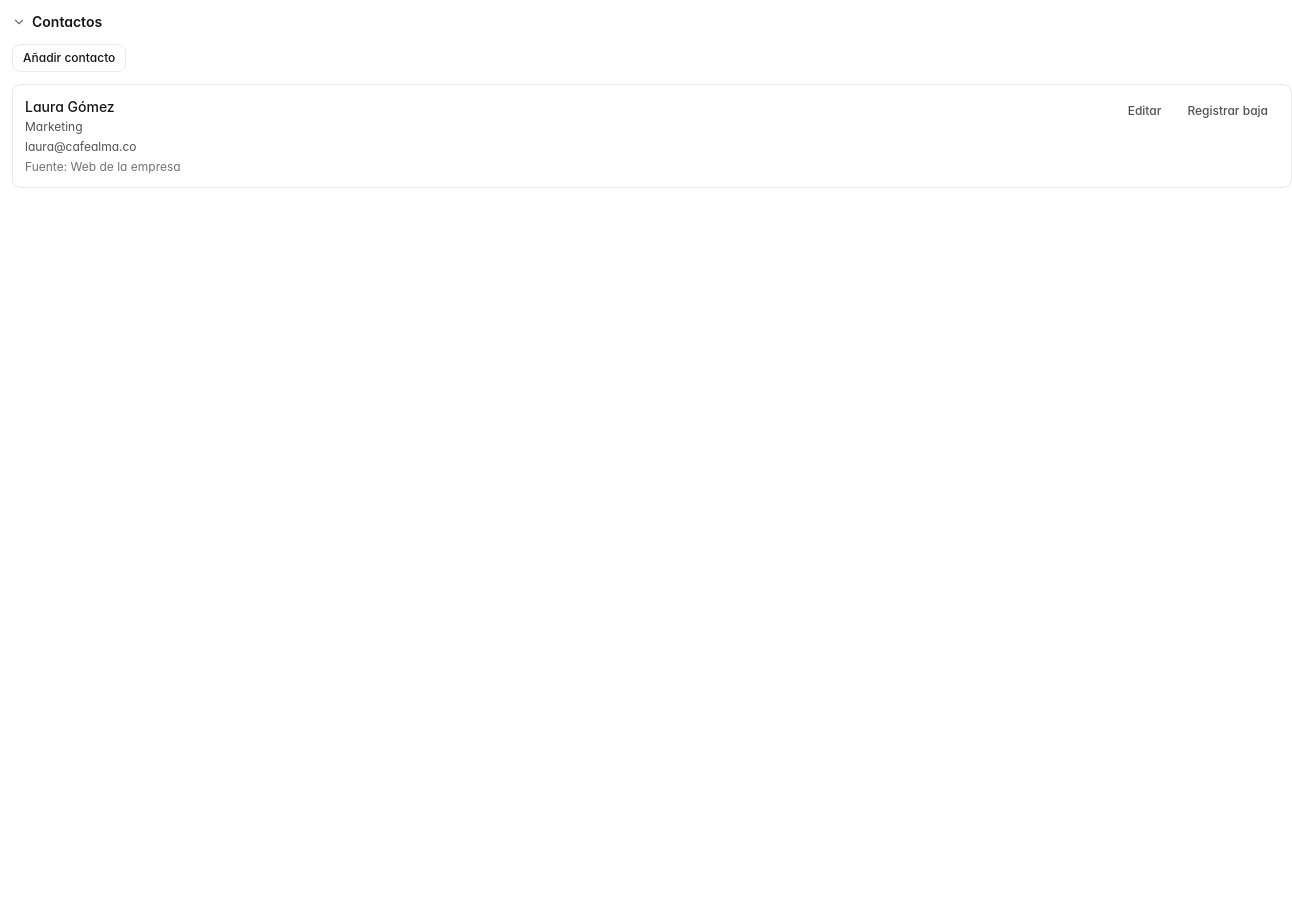
Scenario: Contactos › el error de un campo al editar se ve en ese campo y no se pierde lo escrito
Step 1. Click the button with aria-label "Editar: Laura Gómez" → coordinates (1145, 111), box [1117, 97, 1172, 125]
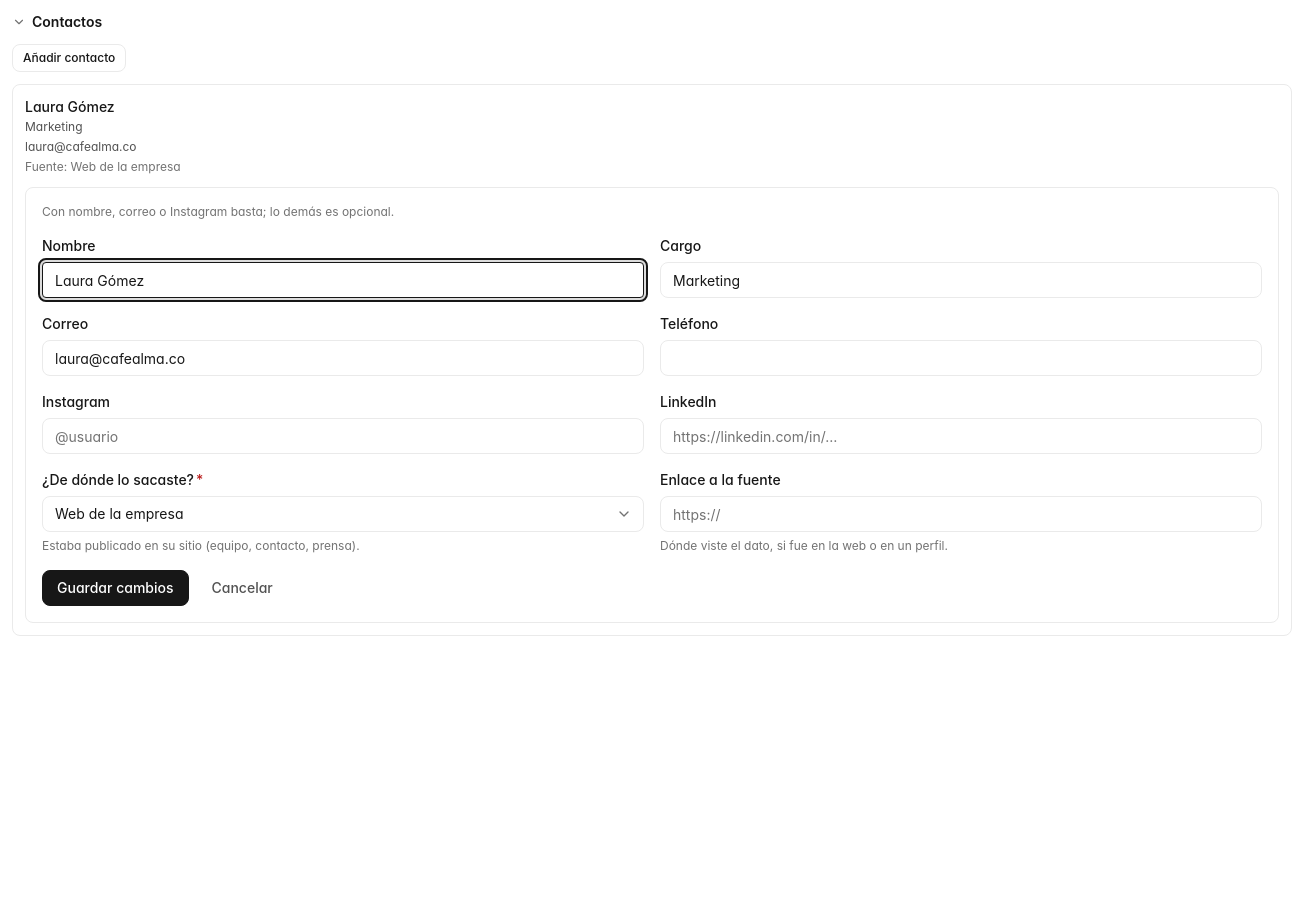
Step 2. Replace the text in the field labelled "Correo" with "otra@cafealma.co" → coordinates (343, 358), box [42, 340, 644, 376]
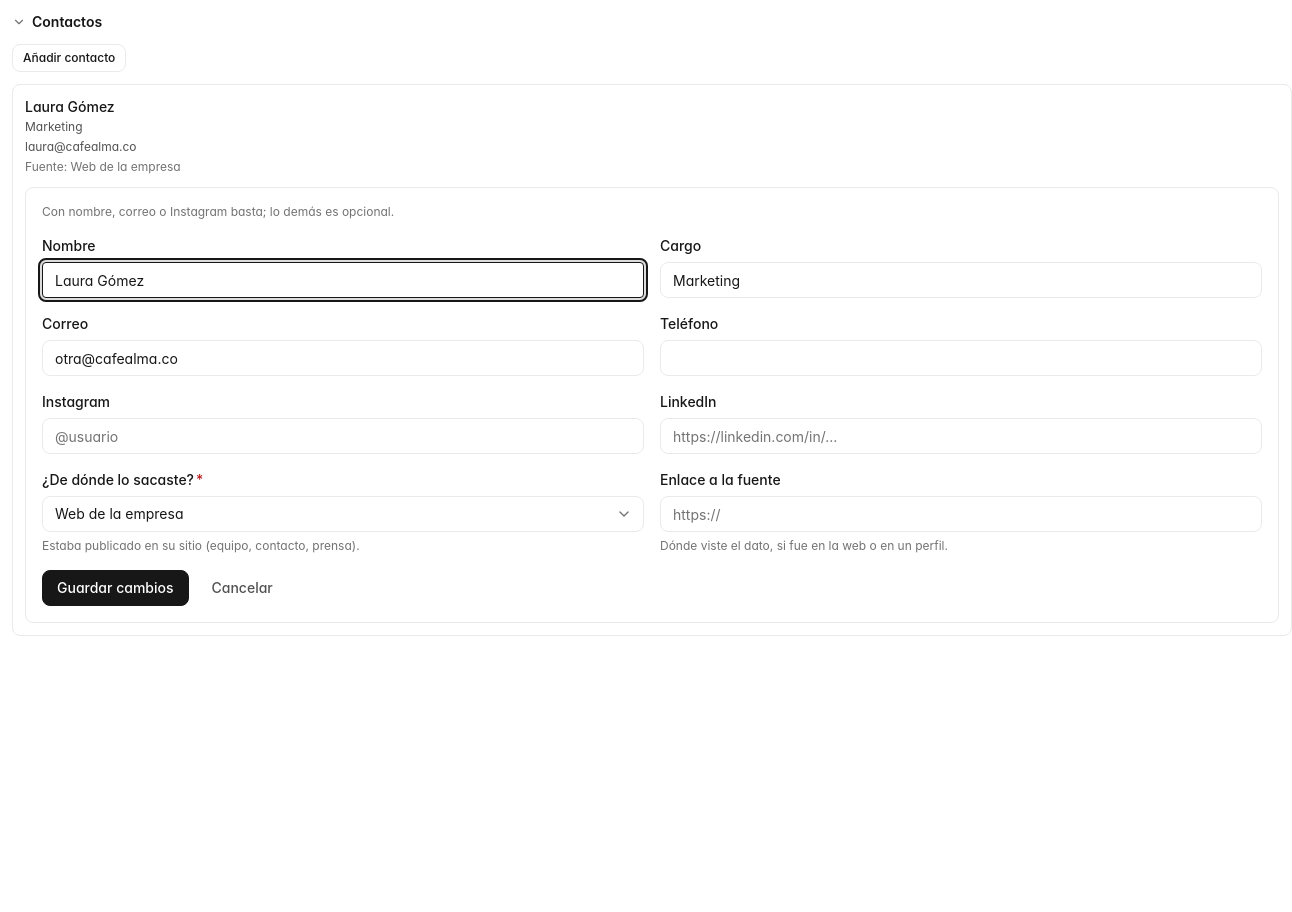
Step 3. Click the button "Guardar cambios" → coordinates (115, 588), box [42, 570, 188, 606]
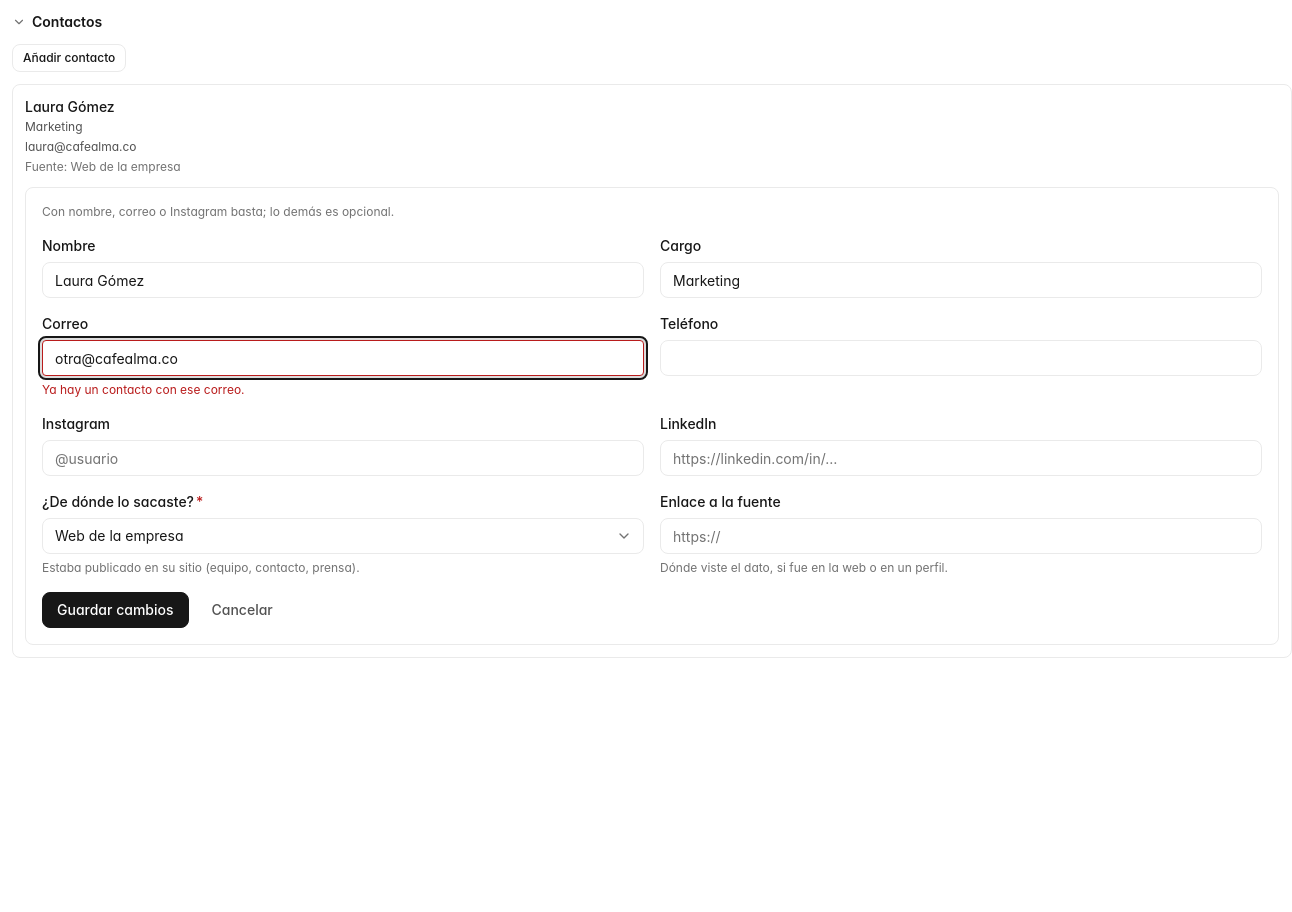
Result: the text "Ya hay un contacto con ese correo." is shown at [42, 382, 244, 397]
